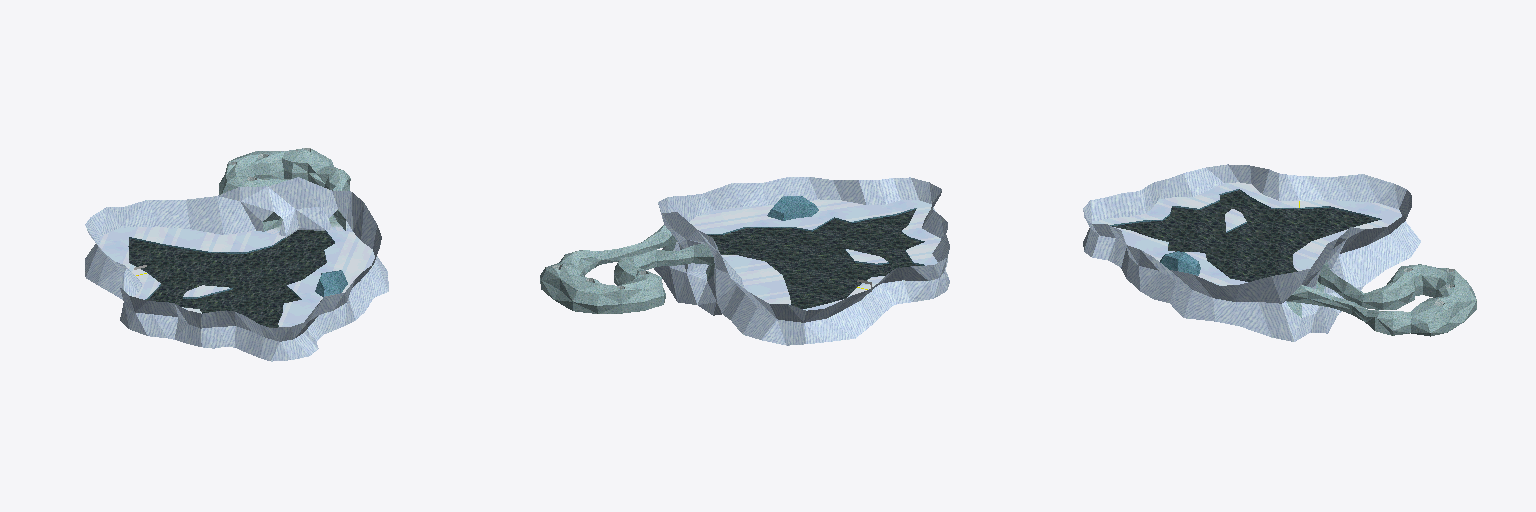
3 renders of one model, left to right at view 1: azimuth 30°, elevation 25°; view 2: azimuth 150°, elevation 25°; view 3: azimuth 270°, elevation 25°, orthographic.
Parts seen in each view (by area): view 1: Shape_IndexedFaceSet.016_Shape_IndexedFaceSet.001; view 2: Shape_IndexedFaceSet.016_Shape_IndexedFaceSet.001; view 3: Shape_IndexedFaceSet.016_Shape_IndexedFaceSet.001.
Boxes of the visible parts, <box> form: Shape_IndexedFaceSet.016_Shape_IndexedFaceSet.001: <box>85,148,388,361</box>; Shape_IndexedFaceSet.016_Shape_IndexedFaceSet.001: <box>540,177,949,345</box>; Shape_IndexedFaceSet.016_Shape_IndexedFaceSet.001: <box>1083,164,1476,341</box>.
Bounding box in the file's own units: 385 × 108 × 429.
Materials: 123 (11 with a texture image).